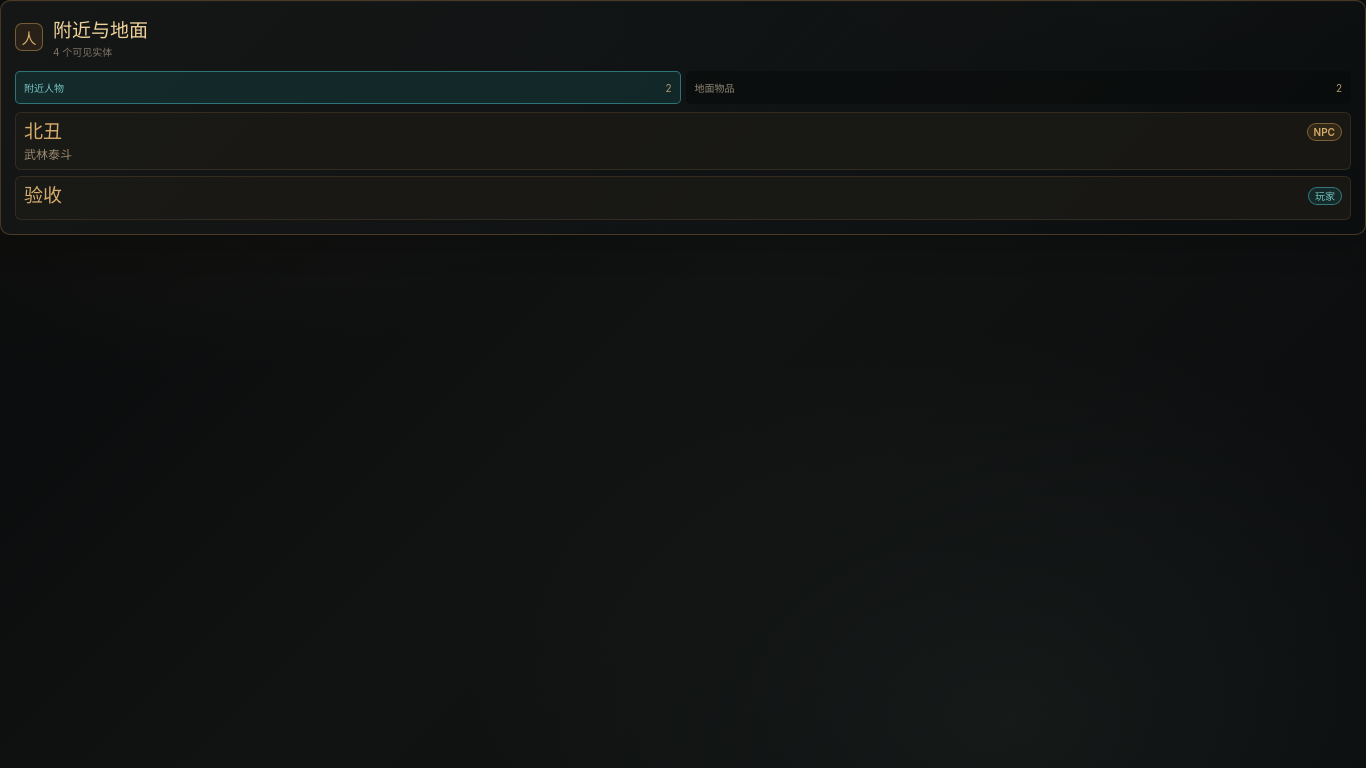
it: RoomEntities › keeps all selected entity actions available without the count label
This screenshot has width=1366, height=768.
Click the button "北丑 NPC 武林泰斗": (43, 132) [15,112,1351,170]
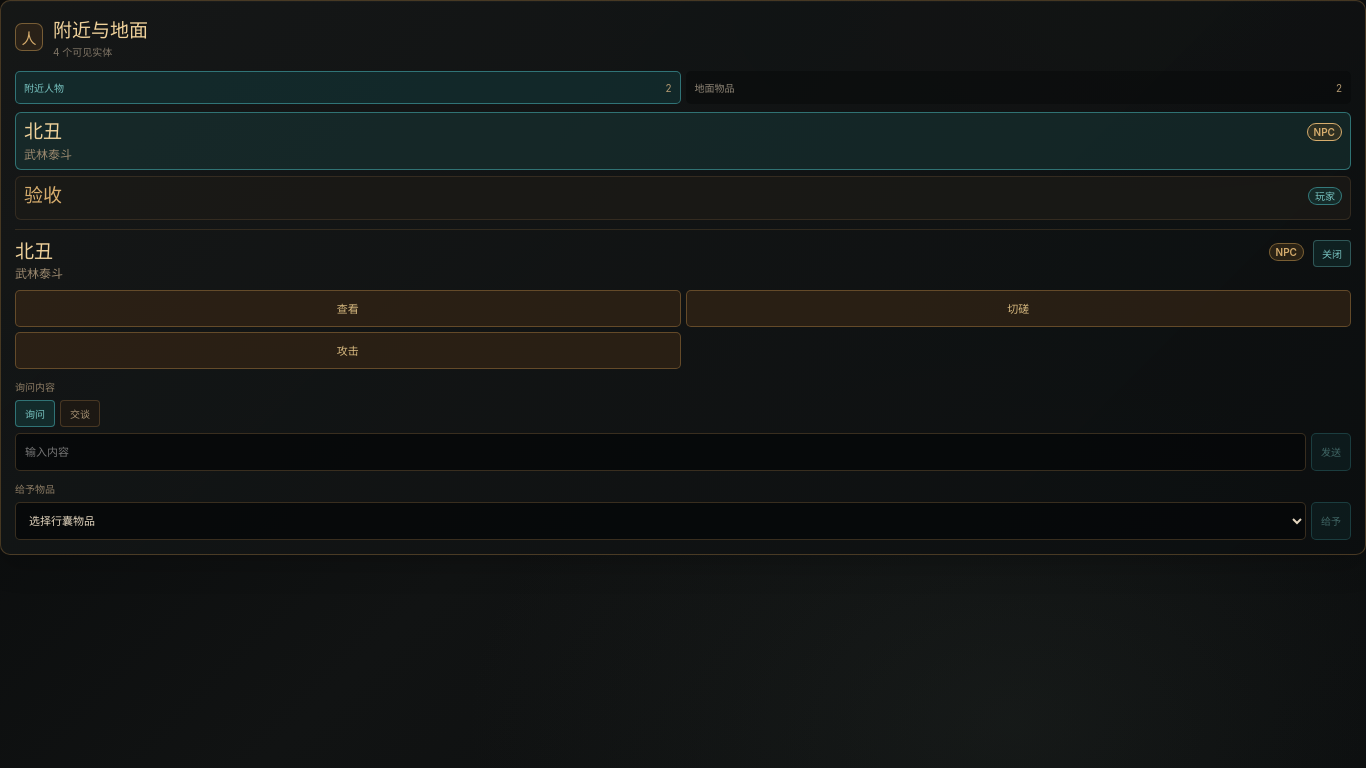
Now the button "查看" is shown, box [15,290,680,326]
Now the button "询问" is shown, box [15,400,55,426]
Now the button "交谈" is shown, box [60,400,100,426]
